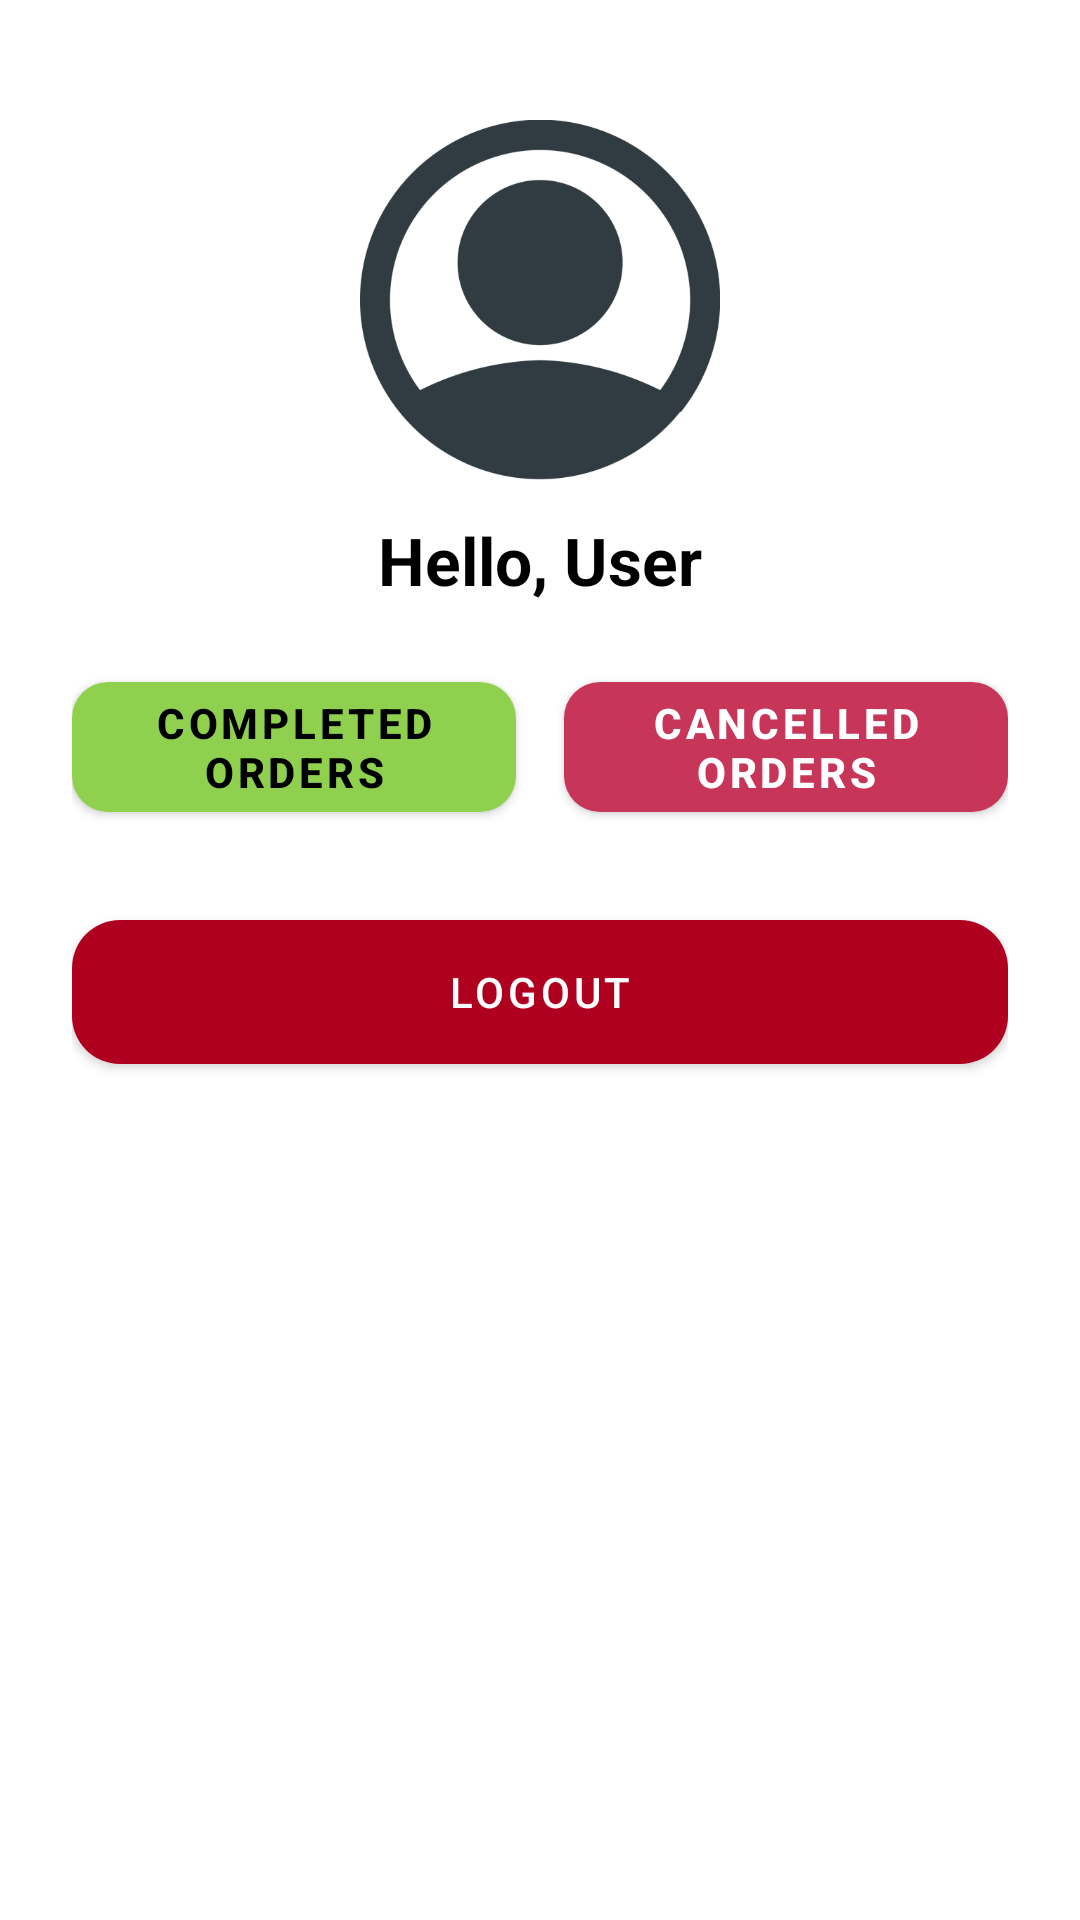

Icons on this 1080 × 1920 Android screen, each with the point to tap as [x,y]:
User profile image: [540,300]
